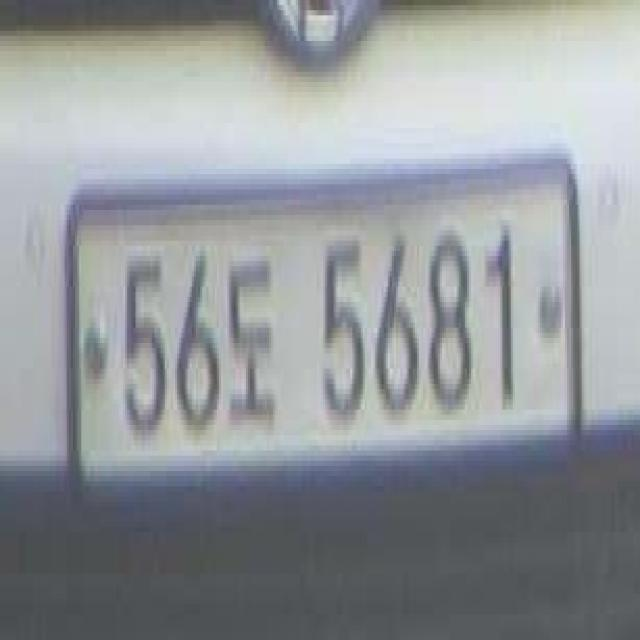illegal_plate: (73, 157, 583, 497)
